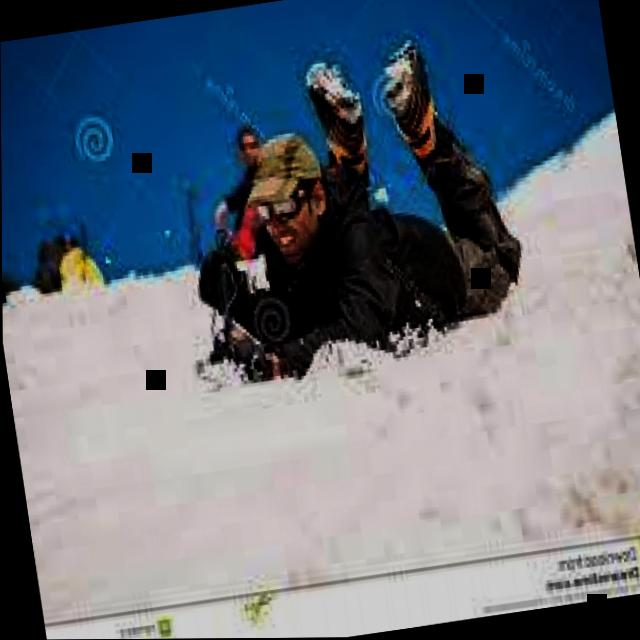Fall-Detected: (158, 9, 534, 407)
